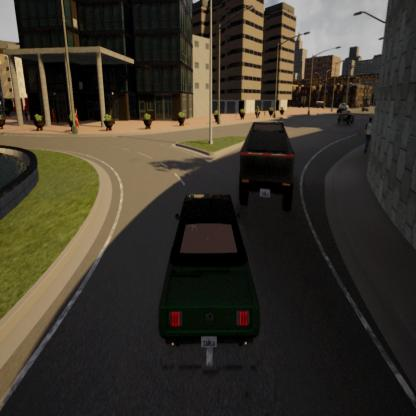Cars: (157, 180, 265, 378), (230, 102, 309, 224), (333, 90, 359, 144)
Pedestrian: (362, 107, 382, 192), (70, 101, 85, 143)
